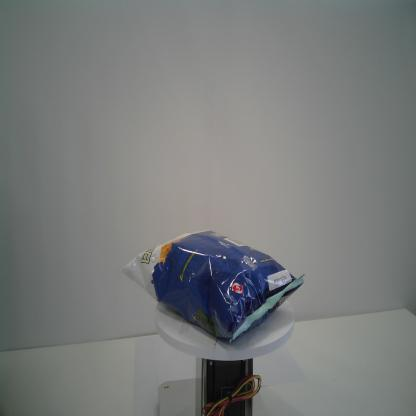Puffed Food: (116, 228, 306, 346)
